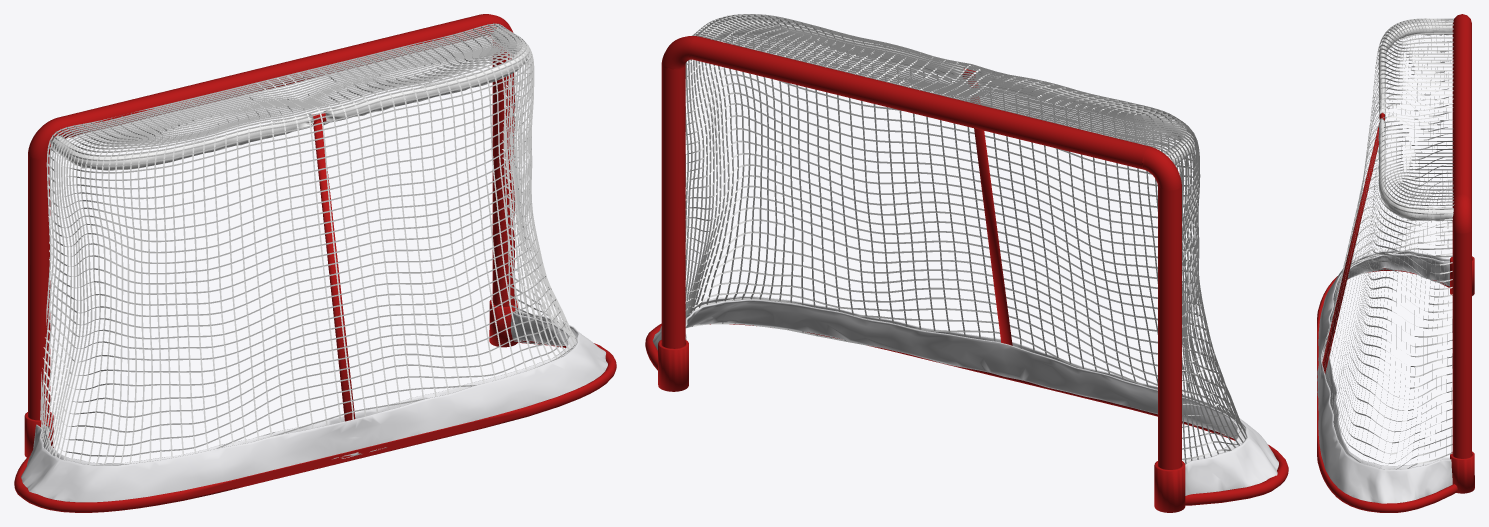
The model's file is net.fbx.
3 views of the same model, side by side, from view 1: azimuth 30°, elevation 25°; view 2: azimuth 150°, elevation 25°; view 3: azimuth 270°, elevation 25° (orthographic). The views are drawn at different scales.
Parts seen in each view (by area): view 1: Netting, Skirt, Crossbar, BaseFrame, RightPost, TopPad, LeftPost, BackSupport, PostFeet, FrameCorners; view 2: Netting, Skirt, Crossbar, LeftPost, RightPost, PostFeet, BaseFrame, TopPad, BackSupport, FrameCorners; view 3: Netting, Skirt, LeftPost, Crossbar, TopPad, BaseFrame, BackSupport, PostFeet, FrameCorners.
Part boxes in pixels (x1=…): Netting: x1=40, y1=23, x2=576, y2=465; Skirt: x1=21, y1=309, x2=607, y2=502; Crossbar: x1=57, y1=14, x2=489, y2=138; BaseFrame: x1=14, y1=340, x2=616, y2=512; RightPost: x1=28, y1=154, x2=50, y2=420; TopPad: x1=50, y1=28, x2=528, y2=170; LeftPost: x1=492, y1=42, x2=514, y2=306; BackSupport: x1=313, y1=120, x2=355, y2=421; PostFeet: x1=24, y1=300, x2=517, y2=457; FrameCorners: x1=28, y1=14, x2=513, y2=158; Netting: x1=685, y1=14, x2=1246, y2=464; Skirt: x1=652, y1=296, x2=1278, y2=495; Crossbar: x1=689, y1=36, x2=1150, y2=169; LeftPost: x1=661, y1=64, x2=685, y2=348; RightPost: x1=1158, y1=186, x2=1181, y2=469; PostFeet: x1=658, y1=340, x2=1185, y2=512; BaseFrame: x1=645, y1=323, x2=1288, y2=505; TopPad: x1=701, y1=19, x2=1194, y2=165; BackSupport: x1=968, y1=81, x2=1012, y2=345; FrameCorners: x1=661, y1=36, x2=1181, y2=190; Netting: x1=1321, y1=18, x2=1454, y2=469; Skirt: x1=1317, y1=250, x2=1452, y2=503; LeftPost: x1=1452, y1=230, x2=1471, y2=458; Crossbar: x1=1452, y1=16, x2=1471, y2=202; TopPad: x1=1378, y1=21, x2=1453, y2=221; BaseFrame: x1=1317, y1=268, x2=1457, y2=512; BackSupport: x1=1322, y1=123, x2=1379, y2=373; PostFeet: x1=1450, y1=256, x2=1474, y2=493; FrameCorners: x1=1452, y1=14, x2=1471, y2=233.
Size of the model in its own units: 2.41 by 1.3 by 0.6516.
